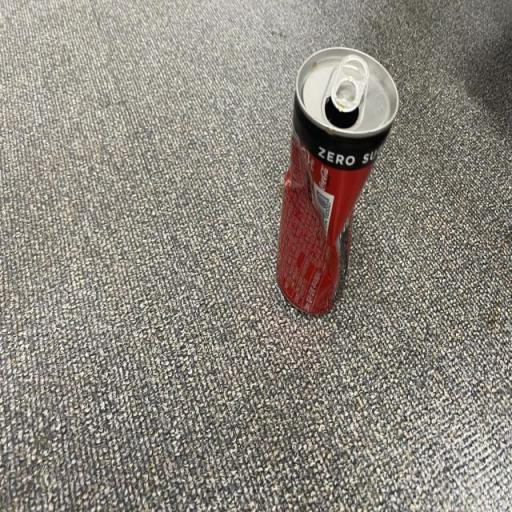metal: (240, 20, 418, 336)
